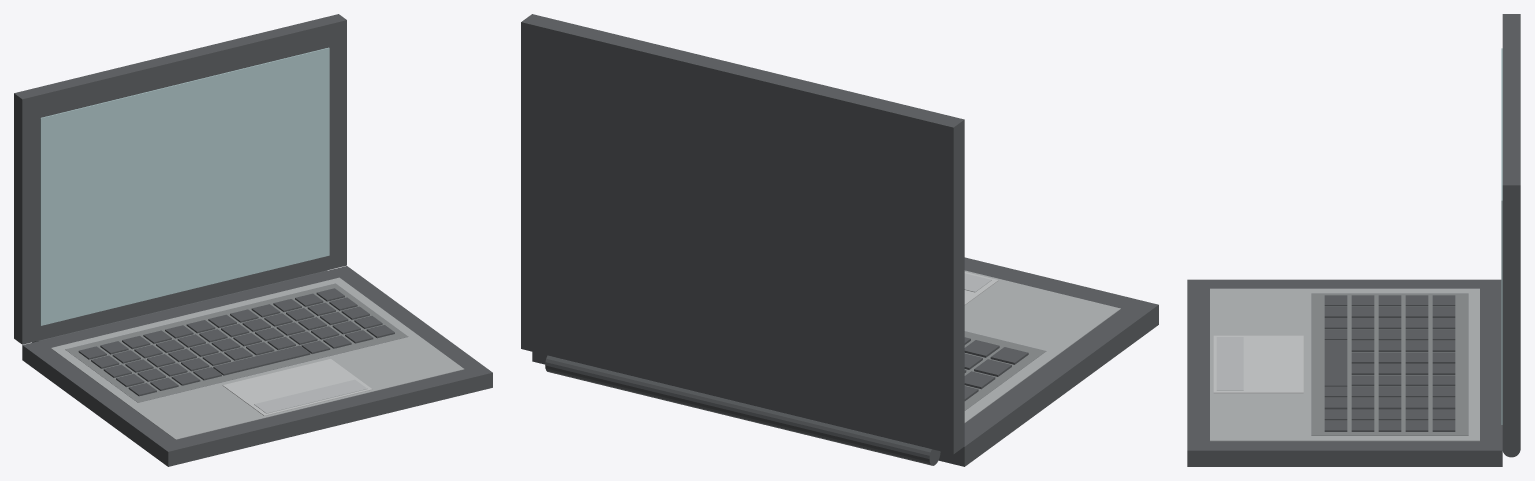
Rendered from Laptop.glb.
The picture shows the model from 3 angles, left to right: view 1: azimuth 30°, elevation 25°; view 2: azimuth 150°, elevation 25°; view 3: azimuth 270°, elevation 25°; orthographic projection. The views are drawn at different scales.
Parts seen in each view (by area): view 1: Mesh_Mesh_head_geo.001_lambert2SG.001; view 2: Mesh_Mesh_head_geo.001_lambert2SG.001; view 3: Mesh_Mesh_head_geo.001_lambert2SG.001.
Boxes of the visible parts, bbox=[...] form: Mesh_Mesh_head_geo.001_lambert2SG.001: bbox=[14, 14, 492, 466]; Mesh_Mesh_head_geo.001_lambert2SG.001: bbox=[521, 14, 1158, 466]; Mesh_Mesh_head_geo.001_lambert2SG.001: bbox=[1187, 14, 1520, 466].
Size of the model in its own units: 90 by 69.1 by 74.
